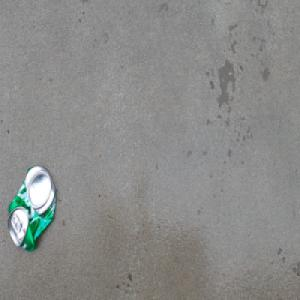SodaCan: (7, 163, 57, 254)
